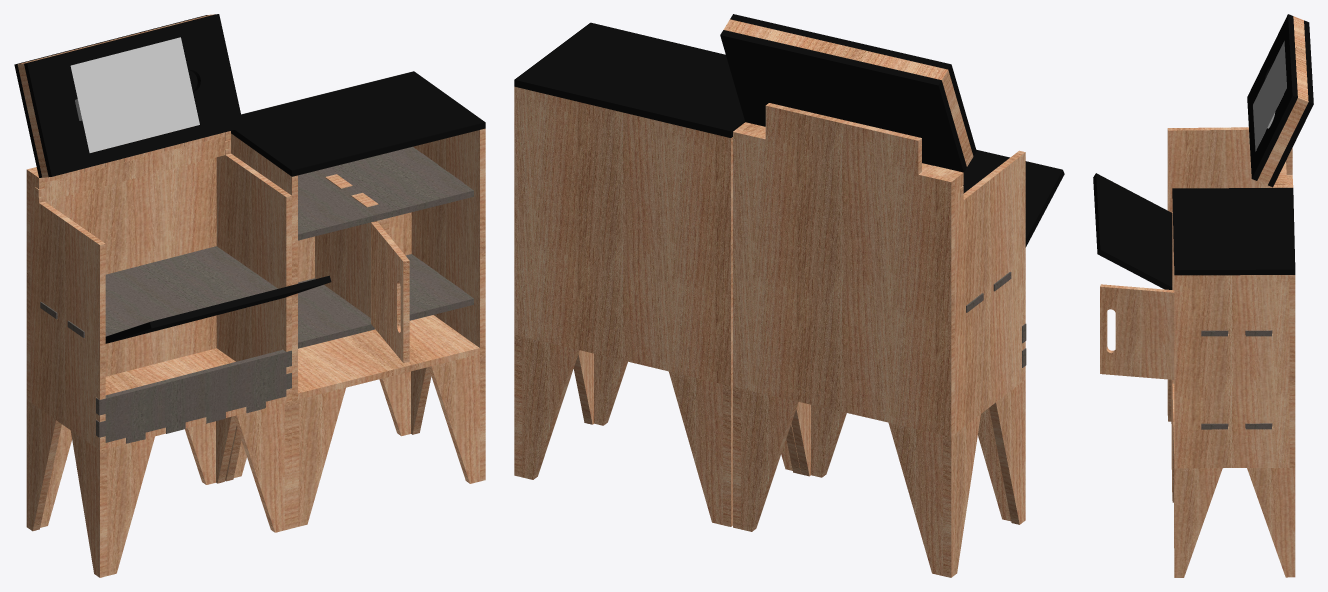
Rendered from Mueble.obj.
3 views of the same model, side by side, from view 1: azimuth 30°, elevation 25°; view 2: azimuth 150°, elevation 25°; view 3: azimuth 270°, elevation 25° (orthographic). The views are drawn at different scales.
Visible parts, largest first — view 1: Solid4, Solid6, Solid2:11, Solid2:4, Solid6:1, Solid1:21, Solid2:10, Solid3, Solid2:8, Solid2:1, Solid1:2, Solid2:5 (+24 smaller); view 2: Solid4, Solid1:3, Solid6, Solid1, Solid2:11, Solid1:14, Solid1:9, Solid1:8, Solid1:12, Solid1:5, Solid1:10, Solid1:4 (+11 smaller); view 3: Solid2:10, Solid2:11, Solid2:9, Solid1:4, Solid6, Solid1:7, Solid1:16, Solid2:4, Solid1:21, Solid1:3, Solid3:1, Solid1 (+3 smaller).
Part boxes in pixels (box(x1,y1,x2,y2)): Solid4: box(26, 157, 216, 401); Solid6: box(30, 170, 105, 450); Solid2:11: box(231, 71, 485, 176); Solid2:4: box(24, 14, 243, 176); Solid6:1: box(216, 131, 291, 402); Solid1:21: box(70, 37, 199, 152); Solid2:10: box(411, 128, 485, 353); Solid3: box(96, 350, 291, 443); Solid2:8: box(298, 146, 473, 240); Solid2:1: box(40, 246, 277, 337); Solid1:2: box(298, 315, 479, 399); Solid2:5: box(298, 254, 473, 348); Solid4: box(733, 103, 954, 436); Solid1:3: box(514, 86, 732, 385); Solid6: box(948, 150, 1025, 433); Solid1: box(720, 30, 966, 172); Solid2:11: box(514, 22, 744, 137); Solid1:14: box(522, 336, 579, 479); Solid1:9: box(741, 388, 798, 531); Solid1:8: box(888, 422, 942, 575); Solid1:12: box(668, 371, 722, 524); Solid1:5: box(943, 414, 980, 577); Solid1:10: box(989, 379, 1025, 524); Solid1:4: box(922, 149, 1064, 247); Solid2:10: box(1174, 275, 1289, 468); Solid2:11: box(1172, 188, 1295, 275); Solid2:9: box(1100, 284, 1174, 379); Solid1:4: box(1093, 173, 1172, 289); Solid6: box(1167, 127, 1271, 212); Solid1:7: box(1247, 468, 1295, 577); Solid1:16: box(1174, 468, 1222, 577); Solid2:4: box(1247, 14, 1297, 180); Solid1:21: box(1253, 41, 1286, 151); Solid1:3: box(1289, 275, 1295, 467); Solid3:1: box(1257, 16, 1303, 182); Solid1: box(1268, 20, 1313, 187).
Bounding box in the file's own units: 808 × 911 × 456.
